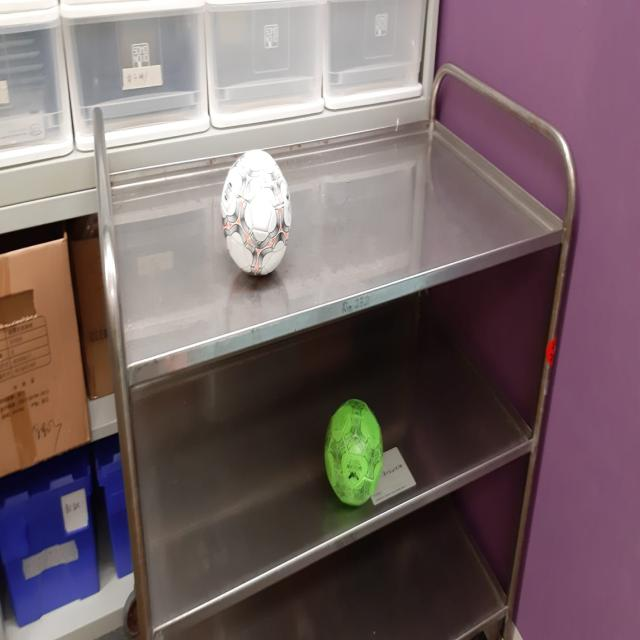ball: (220, 148, 292, 278), (325, 399, 384, 508)
